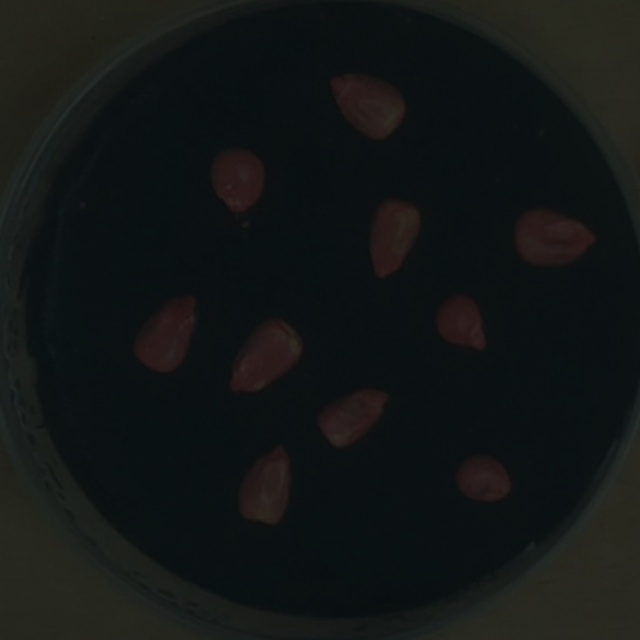Zea mays: (220, 307, 311, 401), (320, 60, 414, 148), (505, 196, 605, 275), (125, 286, 207, 381), (307, 378, 397, 455), (228, 434, 299, 531), (359, 187, 429, 285), (202, 138, 274, 222), (425, 283, 495, 359), (446, 442, 519, 508)
